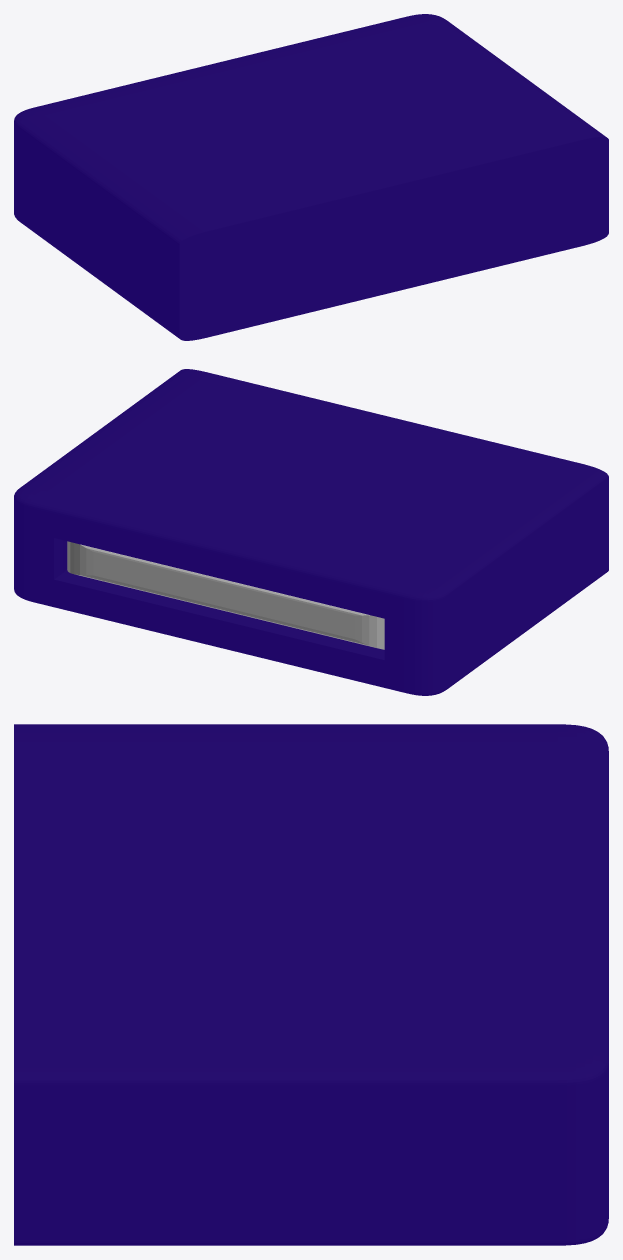
File: LaserGlassesPurpleOn.fbx
3 renders of one model, top to bottom at view 1: azimuth 30°, elevation 25°; view 2: azimuth 150°, elevation 25°; view 3: azimuth 270°, elevation 25°, orthographic. The views are drawn at different scales.
Parts seen in each view (by area): view 1: Cube.036; view 2: Cube.036; view 3: Cube.036.
Boxes of the visible parts, x1,y1,x2,y2 form: Cube.036: (14,14,608,340); Cube.036: (14,369,608,695); Cube.036: (14,724,608,1245).
Size of the model in its own units: 110 by 26 by 77.63.
